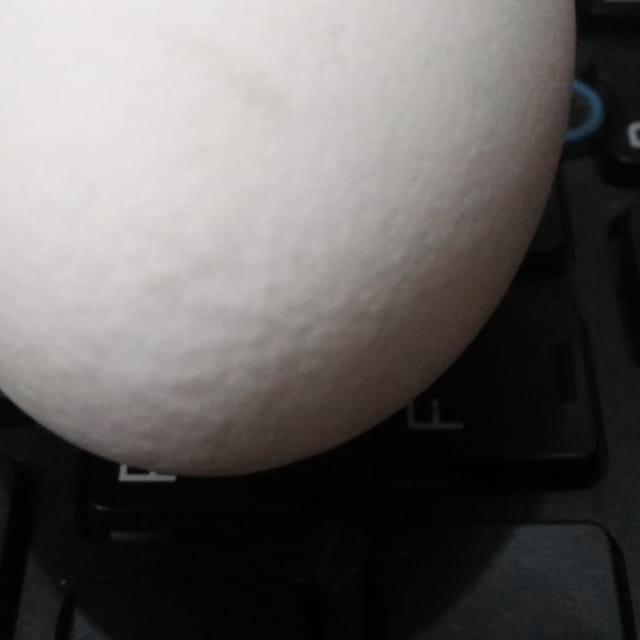egg: (0, 0, 582, 481)
